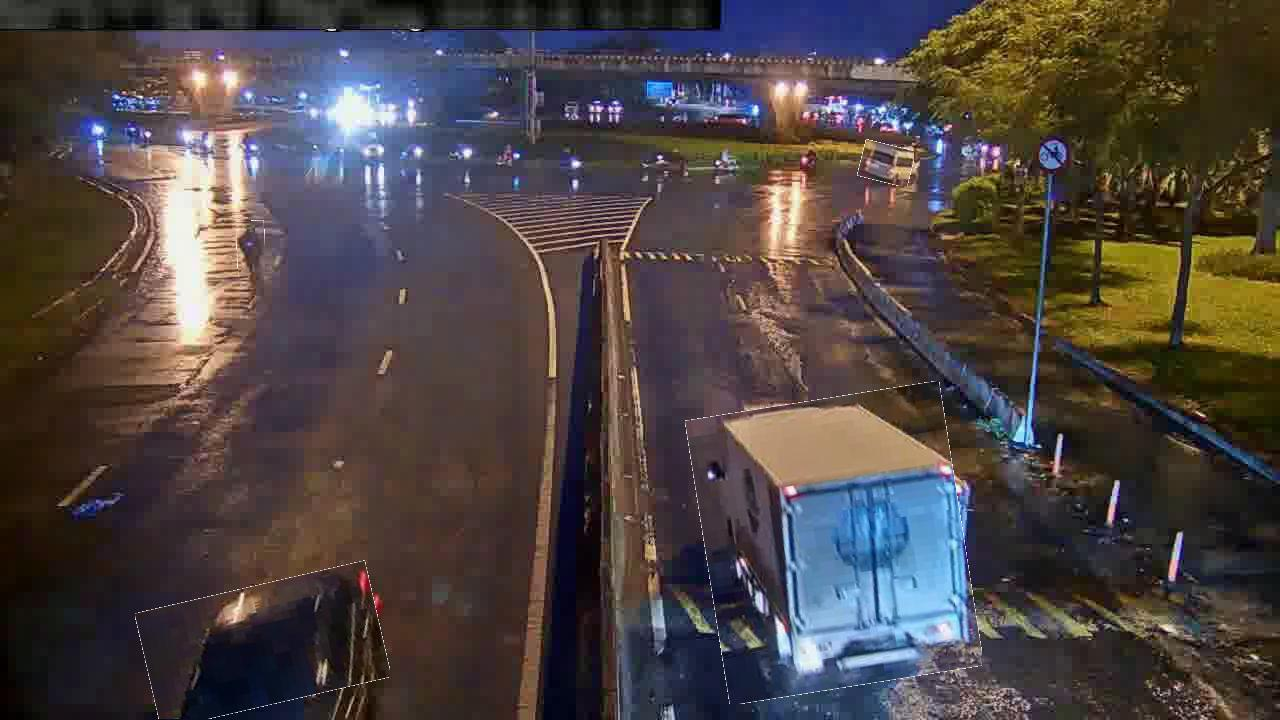14: (859, 142, 914, 185)
8: (696, 390, 973, 696)
container: (140, 573, 386, 717)
motorbike: (236, 221, 266, 276)
